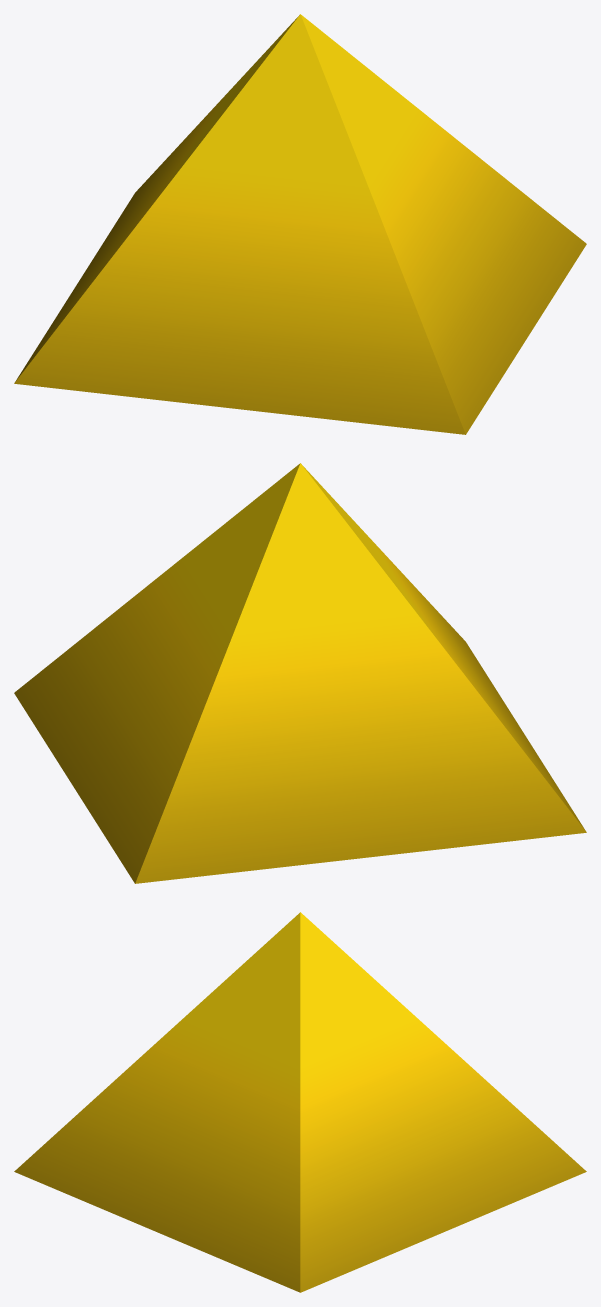
Rendered from TA-sm-piramid.fbx.
3 renders of one model, top to bottom at view 1: azimuth 30°, elevation 25°; view 2: azimuth 150°, elevation 25°; view 3: azimuth 270°, elevation 25°, orthographic. The views are drawn at different scales.
Visible parts, largest first — view 1: SM_Bld_Piramid; view 2: SM_Bld_Piramid; view 3: SM_Bld_Piramid.
Boxes of the visible parts, x1,y1,x2,y2 form: SM_Bld_Piramid: (14, 14, 586, 434); SM_Bld_Piramid: (14, 463, 586, 883); SM_Bld_Piramid: (14, 912, 586, 1292).
Bounding box in the file's own units: 85.49 × 42.75 × 85.49.
